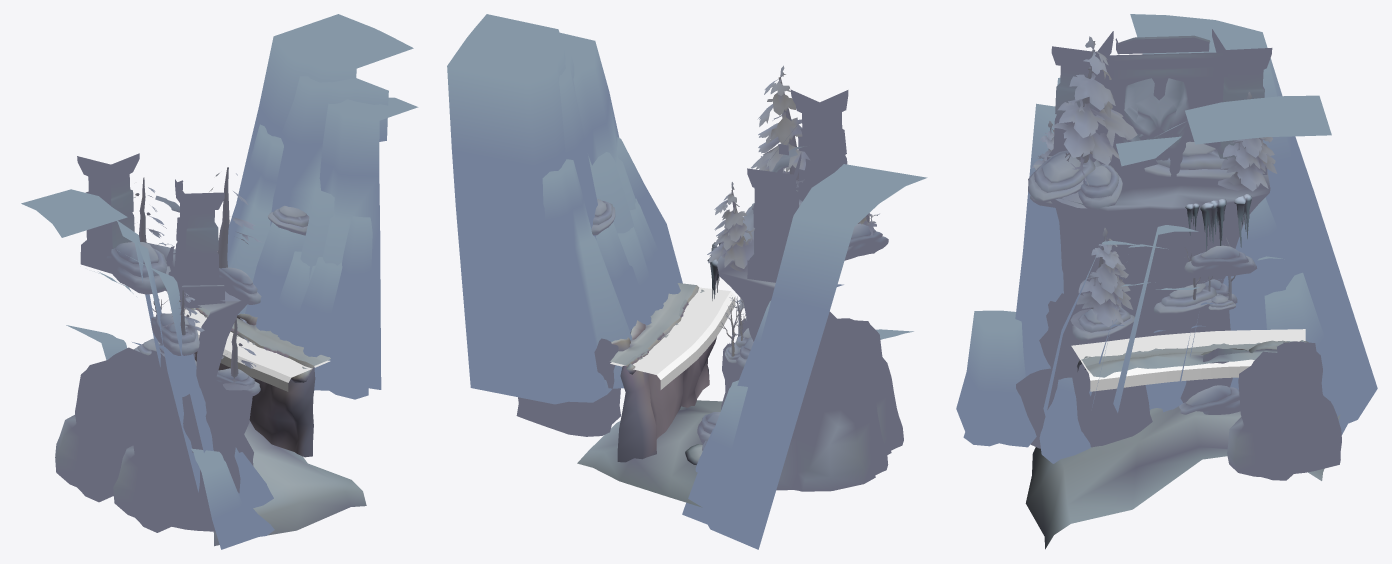
Rendered from Arctic_Narrows_Left_Curve_Left_15_A.glb.
The picture shows the model from 3 angles, left to right: view 1: azimuth 30°, elevation 25°; view 2: azimuth 150°, elevation 25°; view 3: azimuth 270°, elevation 25°; orthographic projection. The views are drawn at different scales.
Visible parts, largest first — view 1: Arctic_Narrows_Left_Curve_Left_15_A, inv_fill; view 2: Arctic_Narrows_Left_Curve_Left_15_A, inv_fill; view 3: Arctic_Narrows_Left_Curve_Left_15_A, inv_fill.
Part boxes in pixels (x1,y1,x2,y2): Arctic_Narrows_Left_Curve_Left_15_A: (21,14,418,549); inv_fill: (170,309,330,391); Arctic_Narrows_Left_Curve_Left_15_A: (447,14,927,549); inv_fill: (610,287,735,389); Arctic_Narrows_Left_Curve_Left_15_A: (956,14,1377,549); inv_fill: (1071,329,1305,391).
Size of what is drawn, in the model's own units: 25.09 by 24.49 by 19.85.
